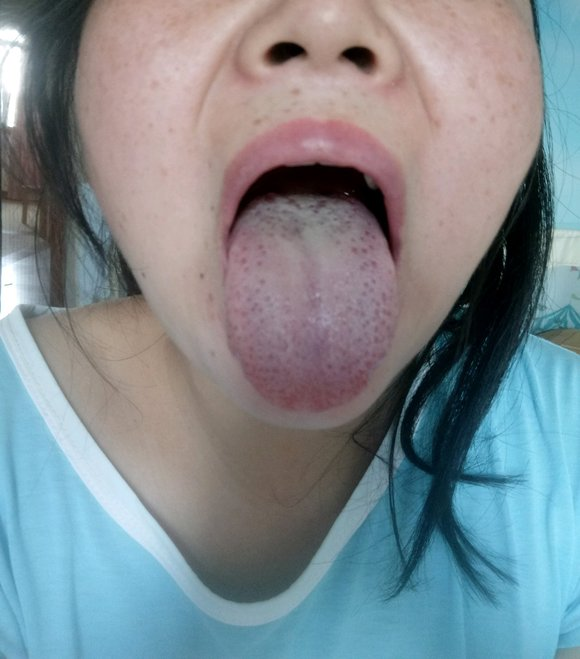baitaishe: (223, 183, 396, 411)
hongdianshe: (360, 245, 368, 255), (254, 259, 262, 267)
